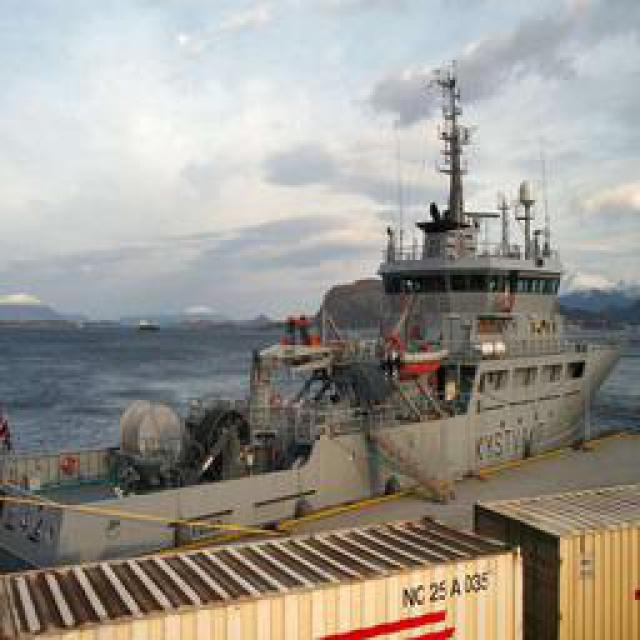Ship: (14, 94, 617, 587)
